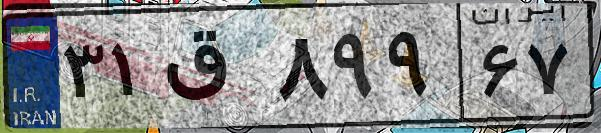1: (110, 28, 158, 98)
3: (57, 26, 110, 100)
6: (475, 38, 525, 113)
7: (525, 38, 570, 115)
8: (270, 28, 330, 110)
9: (385, 28, 445, 110), (330, 28, 385, 110)
ق: (158, 20, 270, 120)
